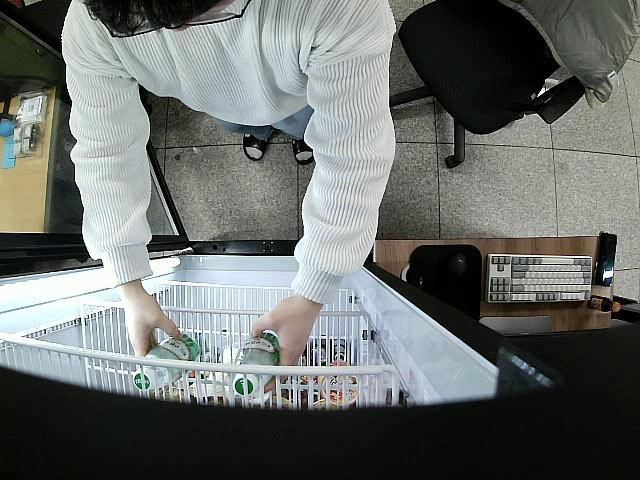18_trevi: (136, 334, 202, 393), (234, 331, 280, 396)
